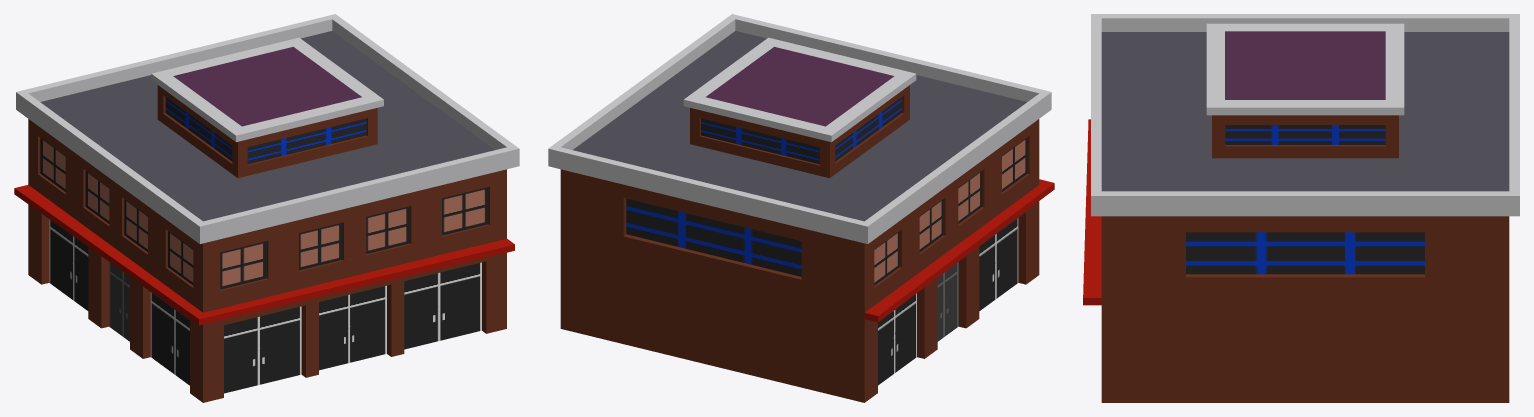
File: building3b.FBX
The picture shows the model from 3 angles, left to right: view 1: azimuth 30°, elevation 25°; view 2: azimuth 150°, elevation 25°; view 3: azimuth 270°, elevation 25°; orthographic projection. The views are drawn at different scales.
Visible parts, largest first — view 1: building3b; view 2: building3b; view 3: building3b.
Part boxes in pixels (left/top/right/bottom): building3b: left=14, top=14, right=519, bottom=402; building3b: left=548, top=14, right=1054, bottom=402; building3b: left=1083, top=14, right=1519, bottom=402.
Size of the model in its own units: 21.63 by 13.66 by 21.56.
